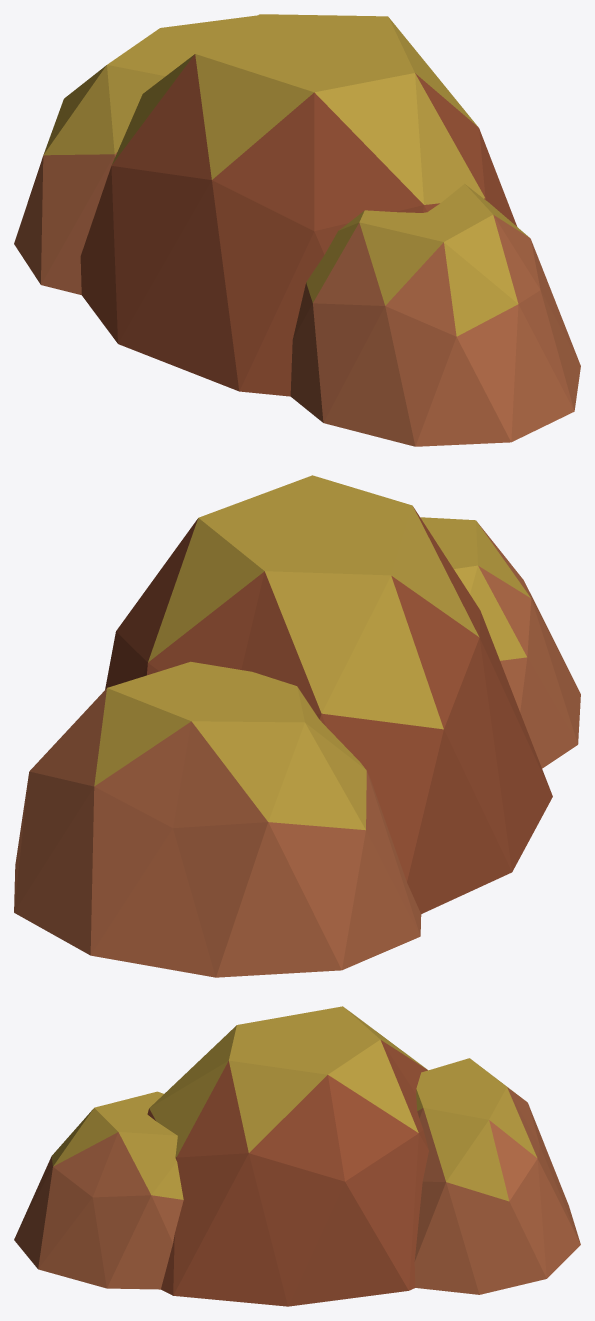
File: Savanna_Env_Hills.fbx
3 renders of one model, top to bottom at view 1: azimuth 30°, elevation 25°; view 2: azimuth 150°, elevation 25°; view 3: azimuth 270°, elevation 25°, orthographic. The views are drawn at different scales.
Parts seen in each view (by area): view 1: Savanna_Env_Hills; view 2: Savanna_Env_Hills; view 3: Savanna_Env_Hills.
Boxes of the visible parts, x1,y1,x2,y2 form: Savanna_Env_Hills: (14, 14, 580, 446); Savanna_Env_Hills: (14, 475, 580, 977); Savanna_Env_Hills: (14, 1006, 580, 1306).
Size of the model in its own units: 3.89 by 2.55 by 6.69.
